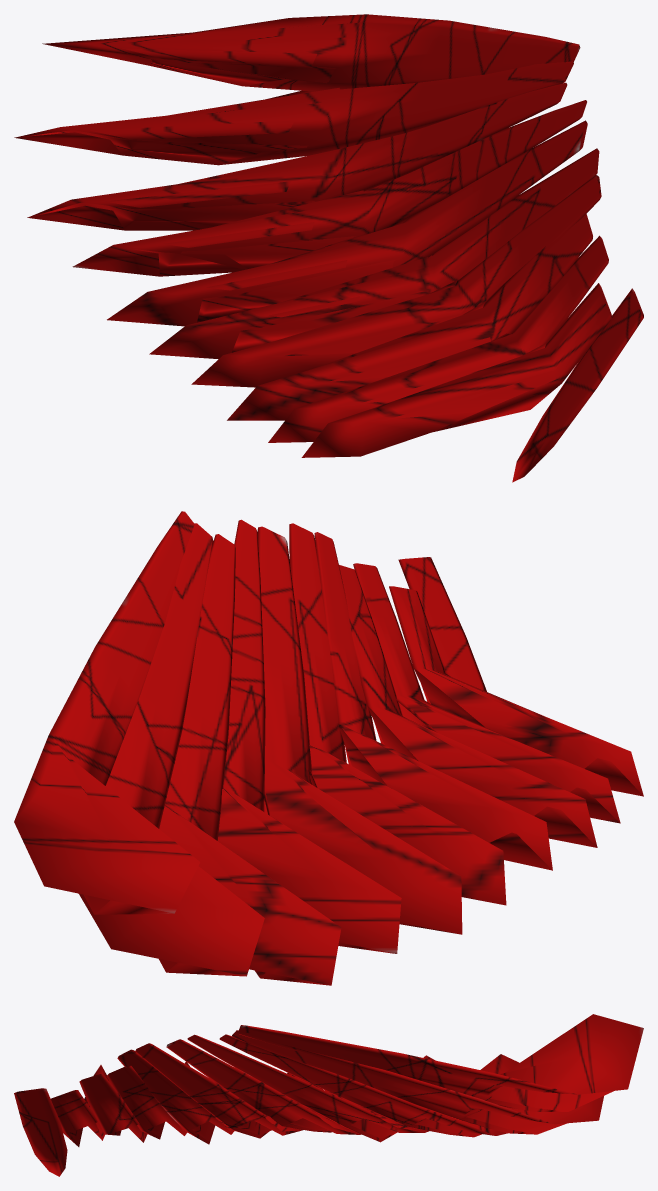
File: relojAlaIzqPajaro.obj
3 renders of one model, top to bottom at view 1: azimuth 30°, elevation 25°; view 2: azimuth 150°, elevation 25°; view 3: azimuth 270°, elevation 25°, orthographic. The views are drawn at different scales.
Parts seen in each view (by area): view 1: polySurface95; view 2: polySurface95; view 3: polySurface95.
Boxes of the visible parts, x1=… form: polySurface95: x1=14, y1=14, x2=643, y2=482; polySurface95: x1=14, y1=511, x2=643, y2=985; polySurface95: x1=14, y1=1014, x2=643, y2=1176.
Bounding box in the file's own units: 40.9 × 30.7 × 79.35.
1 material, 1 textured.
